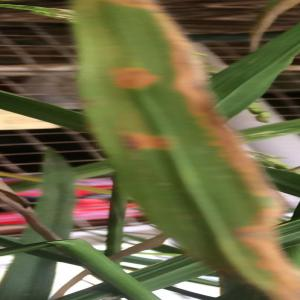Bacterial_Blight: (84, 7, 253, 284)
